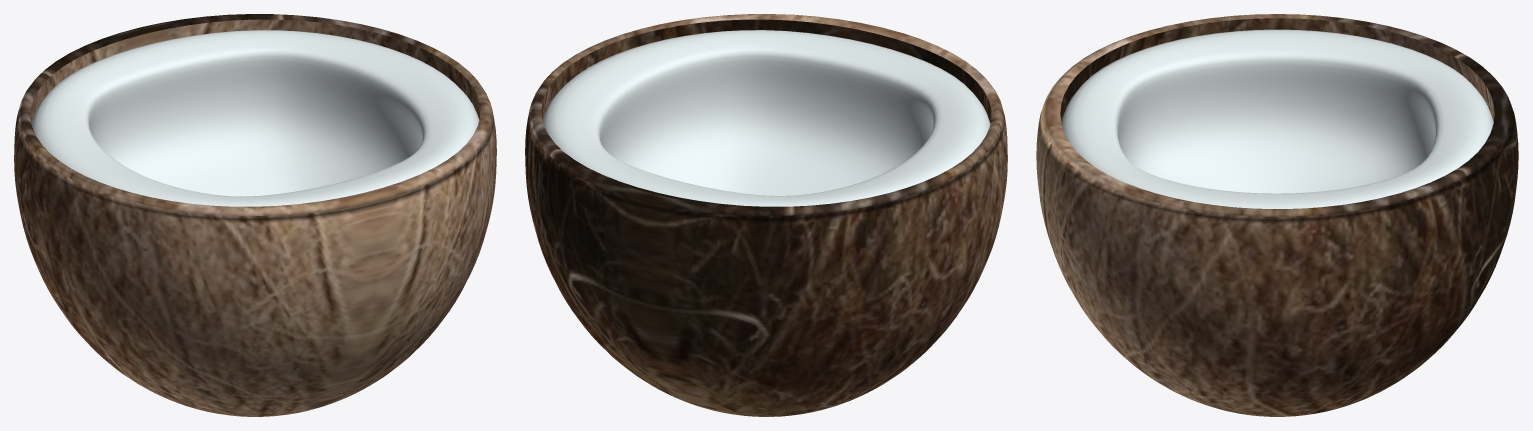
Rendered from coconut.fbx.
3 views of the same model, side by side, from view 1: azimuth 30°, elevation 25°; view 2: azimuth 150°, elevation 25°; view 3: azimuth 270°, elevation 25° (orthographic).
Parts seen in each view (by area): view 1: coconut (exterior), coconut meat, coconut (interior); view 2: coconut (exterior), coconut meat, coconut (interior); view 3: coconut (exterior), coconut meat, coconut (interior).
Boxes of the visible parts, left/top/right/bottom form: coconut (exterior): left=14, top=14, right=496, bottom=416; coconut meat: left=31, top=30, right=479, bottom=206; coconut (interior): left=30, top=19, right=480, bottom=122; coconut (exterior): left=525, top=14, right=1007, bottom=416; coconut meat: left=542, top=30, right=990, bottom=206; coconut (interior): left=541, top=19, right=991, bottom=122; coconut (exterior): left=1036, top=14, right=1518, bottom=416; coconut meat: left=1061, top=29, right=1493, bottom=208; coconut (interior): left=1060, top=18, right=1494, bottom=121.
Size of the model in its own units: 0.9704 by 0.6329 by 0.9704.
1 material, 1 textured.
